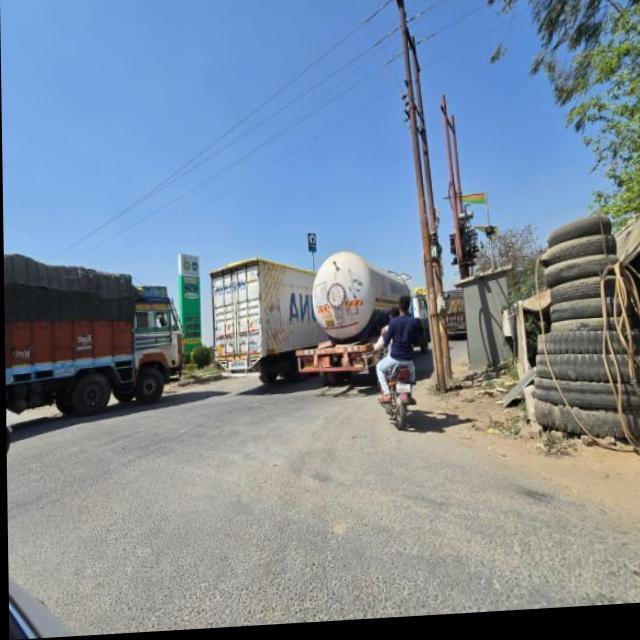covered: (3, 238, 170, 404)
